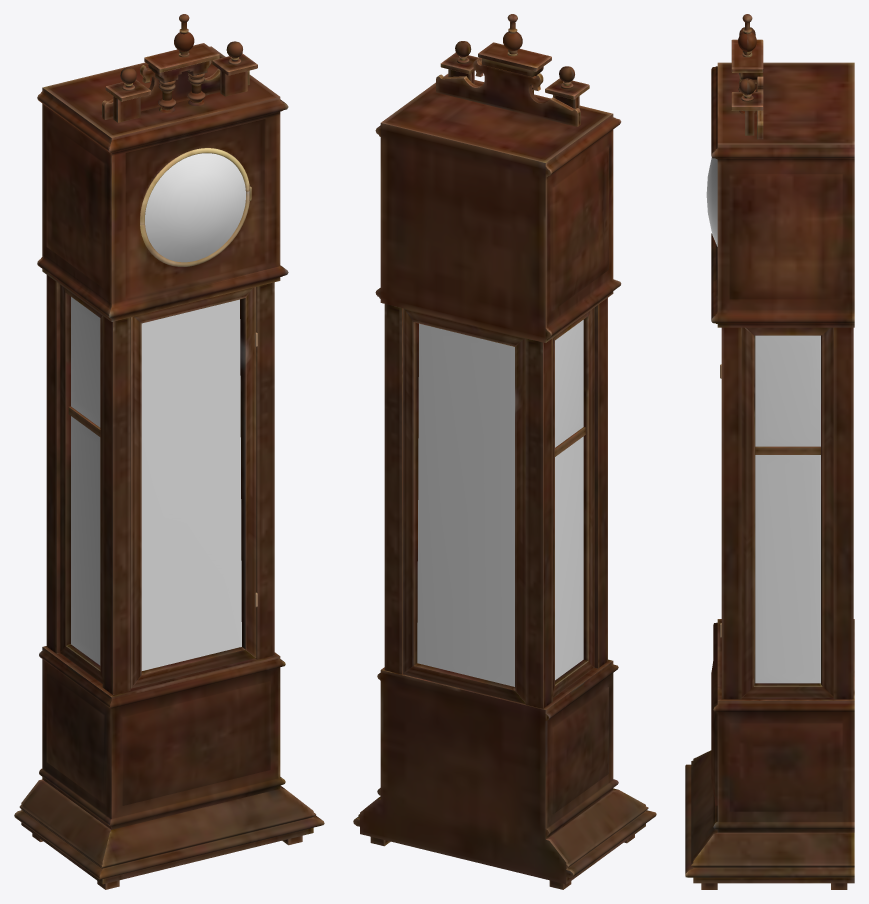
File: SM_Floor_Clock_comb_8e7344.glb
3 views of the same model, side by side, from view 1: azimuth 30°, elevation 25°; view 2: azimuth 150°, elevation 25°; view 3: azimuth 270°, elevation 25° (orthographic). The views are drawn at different scales.
Bounding box in the file's own units: 0.5198 × 1.84 × 0.3411.
2 materials, 1 textured.
